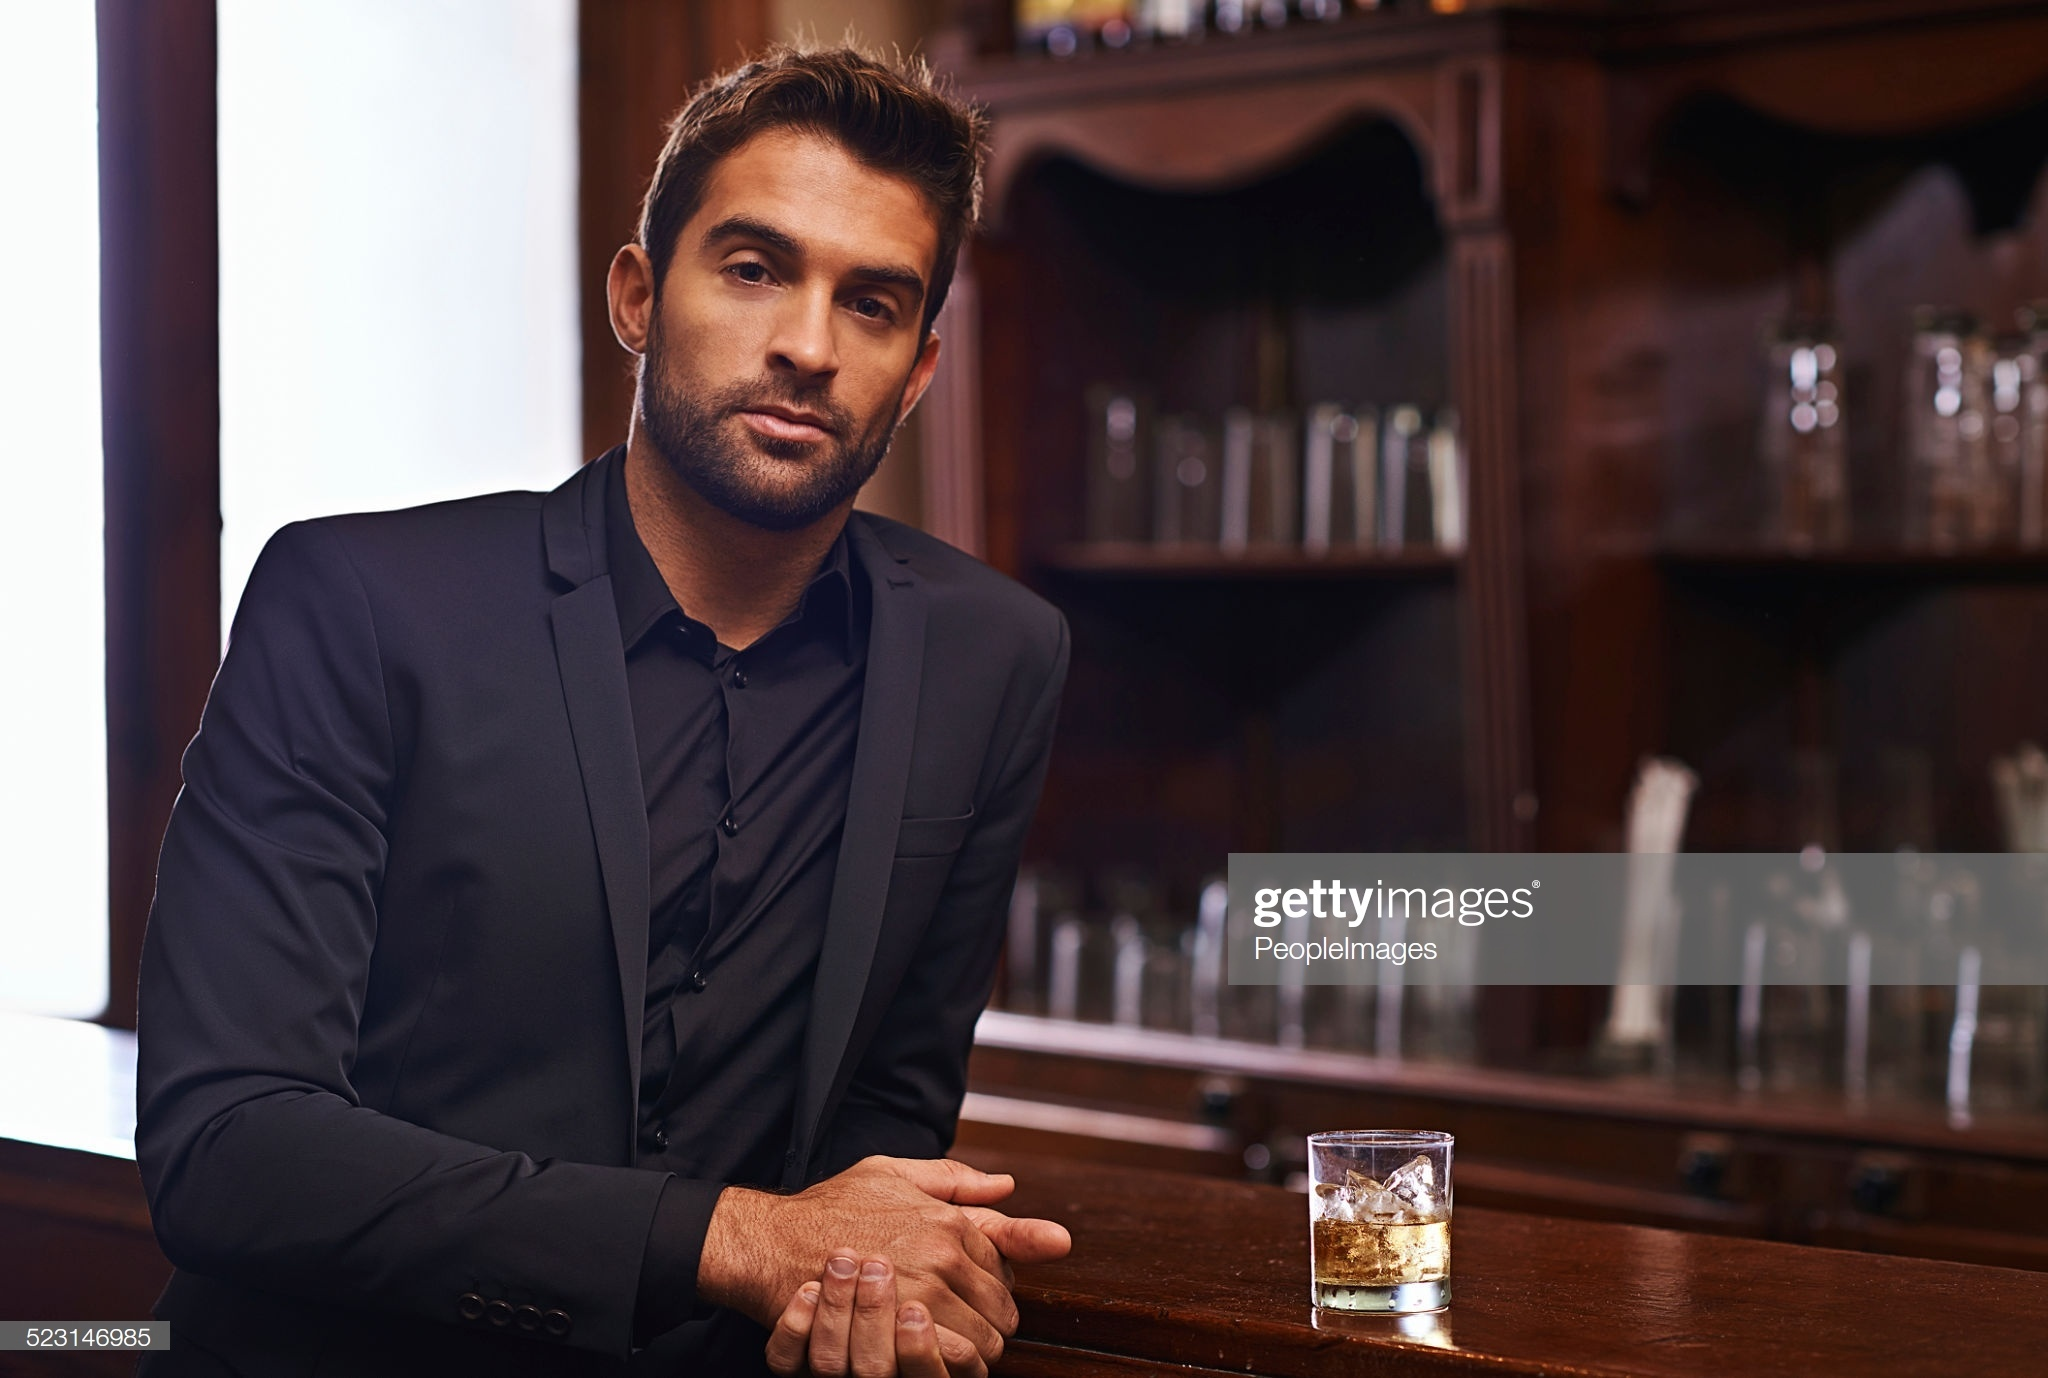whiskey: (1301, 1127, 1465, 1315)
